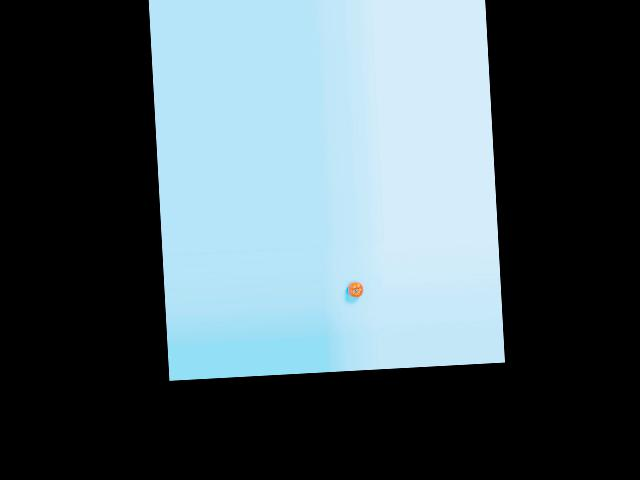tomato: (347, 281, 363, 298)
